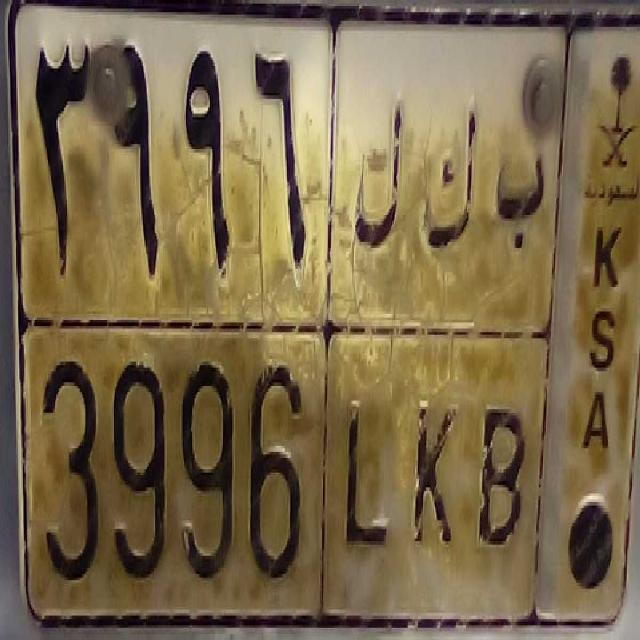license_plate: (28, 313, 534, 629)
